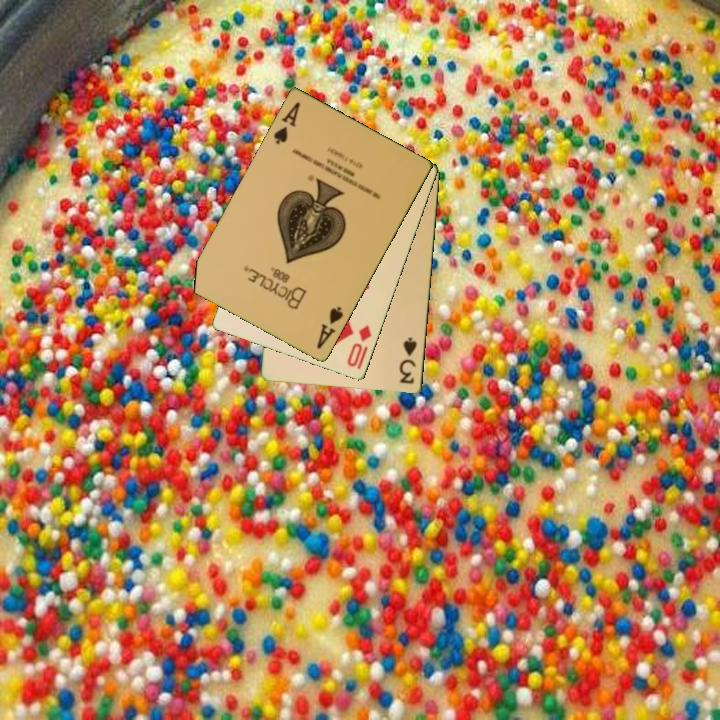10d: (344, 321, 375, 372)
3s: (396, 334, 420, 387)
As: (270, 98, 303, 148), (313, 303, 346, 352)
